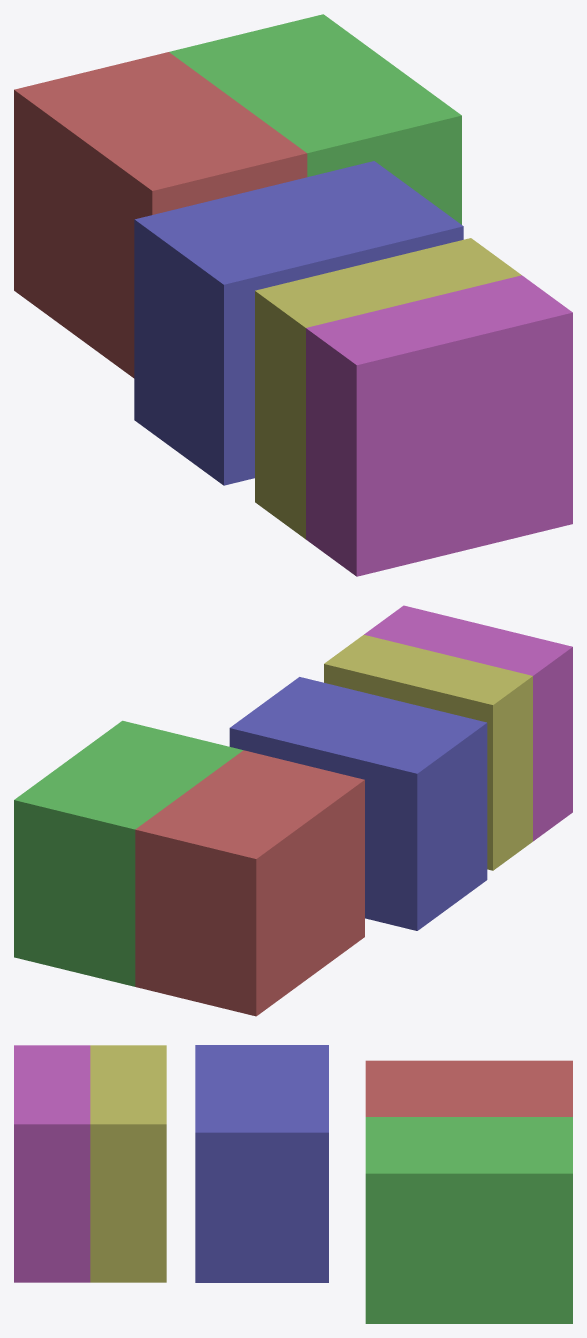
File: order_106647_pall_4.glb
The picture shows the model from 3 angles, top to bottom: view 1: azimuth 30°, elevation 25°; view 2: azimuth 150°, elevation 25°; view 3: azimuth 270°, elevation 25°; orthographic projection. The views are drawn at different scales.
Visible parts, largest first — view 1: world; view 2: world; view 3: world.
Part boxes in pixels (x1,y1,x2,y2): world: (14,14,572,576); world: (14,605,572,1016); world: (14,1045,572,1323).
Bounding box in the file's own units: 1324 × 760 × 2433.
